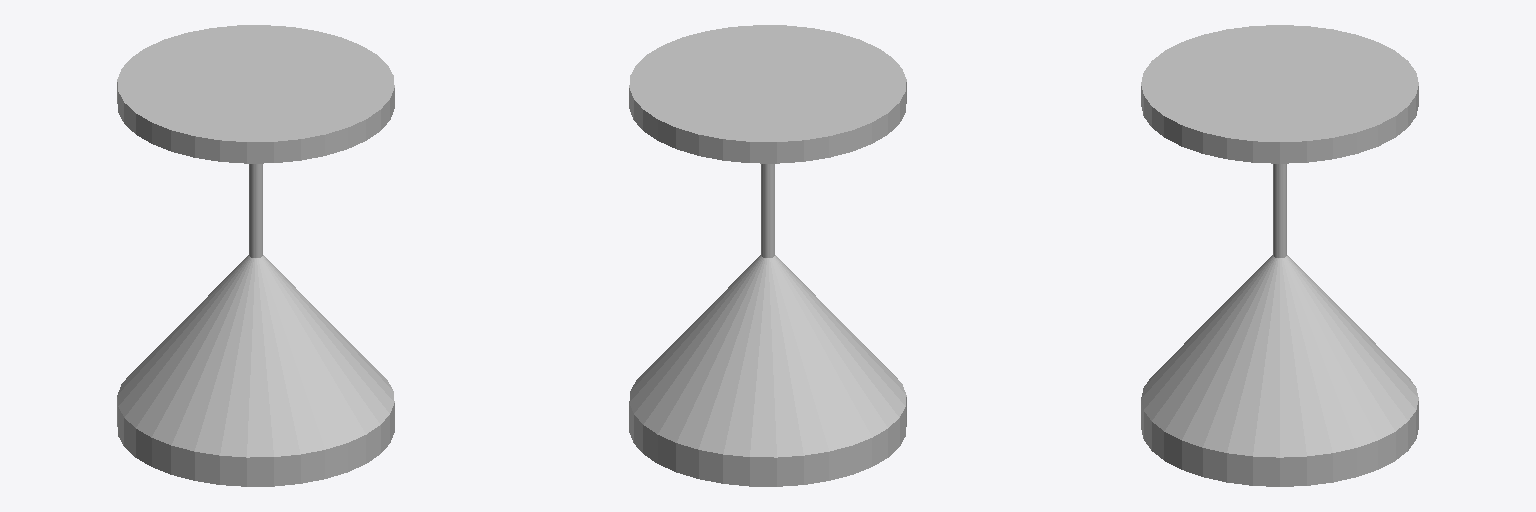
The model's file is Lampa.obj.
The picture shows the model from 3 angles: view 1: azimuth 30°, elevation 25°; view 2: azimuth 150°, elevation 25°; view 3: azimuth 270°, elevation 25°; orthographic projection.
Visible parts, largest first — view 1: Cone, Cylinder.001_Cylinder.007, Cylinder_Cylinder.001; view 2: Cone, Cylinder.001_Cylinder.007, Cylinder_Cylinder.001; view 3: Cone, Cylinder.001_Cylinder.007, Cylinder_Cylinder.001.
Part boxes in pixels (bbox=[...]): Cone: bbox=[117, 255, 394, 486]; Cylinder.001_Cylinder.007: bbox=[117, 25, 394, 163]; Cylinder_Cylinder.001: bbox=[249, 164, 262, 257]; Cone: bbox=[629, 255, 906, 486]; Cylinder.001_Cylinder.007: bbox=[629, 25, 906, 163]; Cylinder_Cylinder.001: bbox=[761, 164, 774, 257]; Cone: bbox=[1141, 255, 1418, 486]; Cylinder.001_Cylinder.007: bbox=[1141, 25, 1418, 163]; Cylinder_Cylinder.001: bbox=[1273, 164, 1286, 257].
Bounding box in the file's own units: 2 × 2.74 × 2.